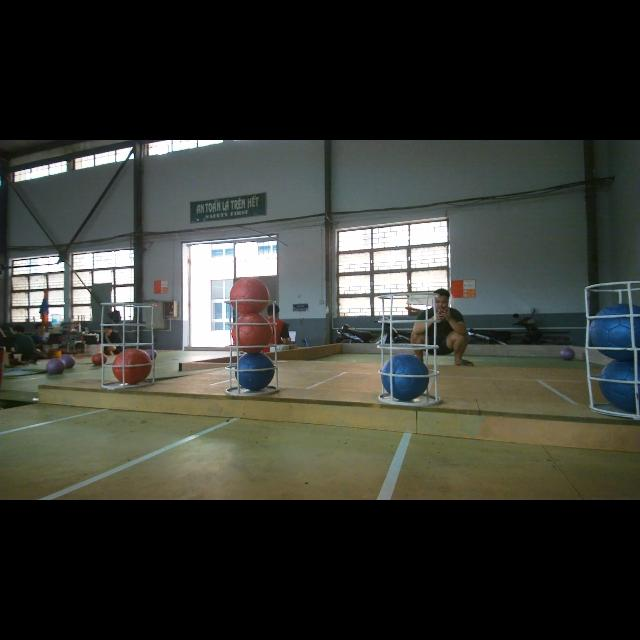B: (590, 304, 640, 360), (382, 354, 430, 401), (600, 359, 640, 415), (235, 352, 275, 392)
R: (232, 314, 272, 354), (112, 348, 152, 384), (230, 278, 268, 314)
